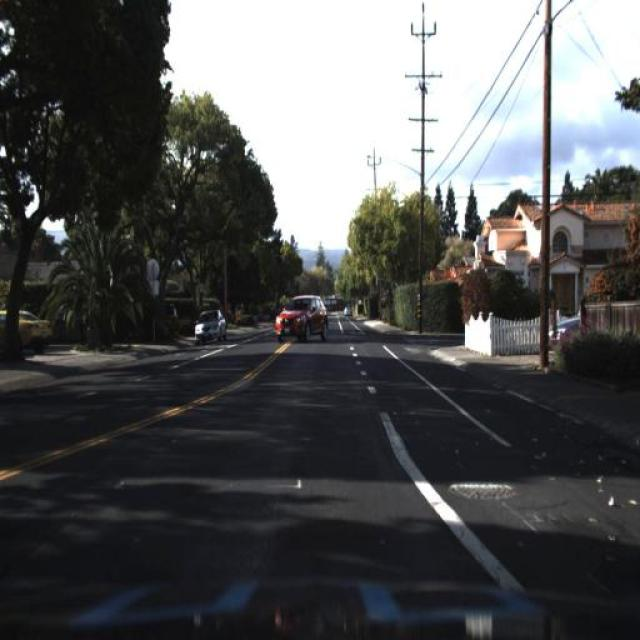car: (269, 291, 331, 345), (1, 304, 53, 357), (189, 298, 230, 348)
